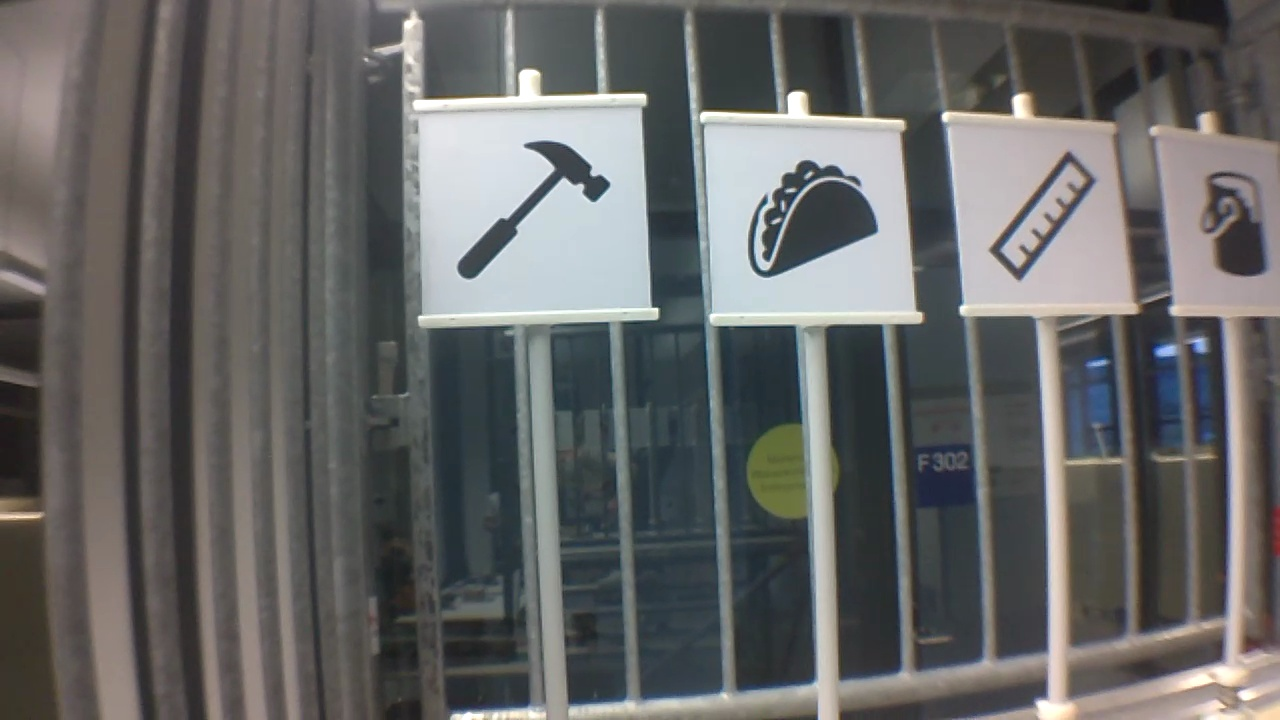bucket: (1190, 166, 1270, 281)
hammer: (448, 133, 617, 285)
ruler: (980, 144, 1100, 286)
taco: (741, 156, 885, 283)
